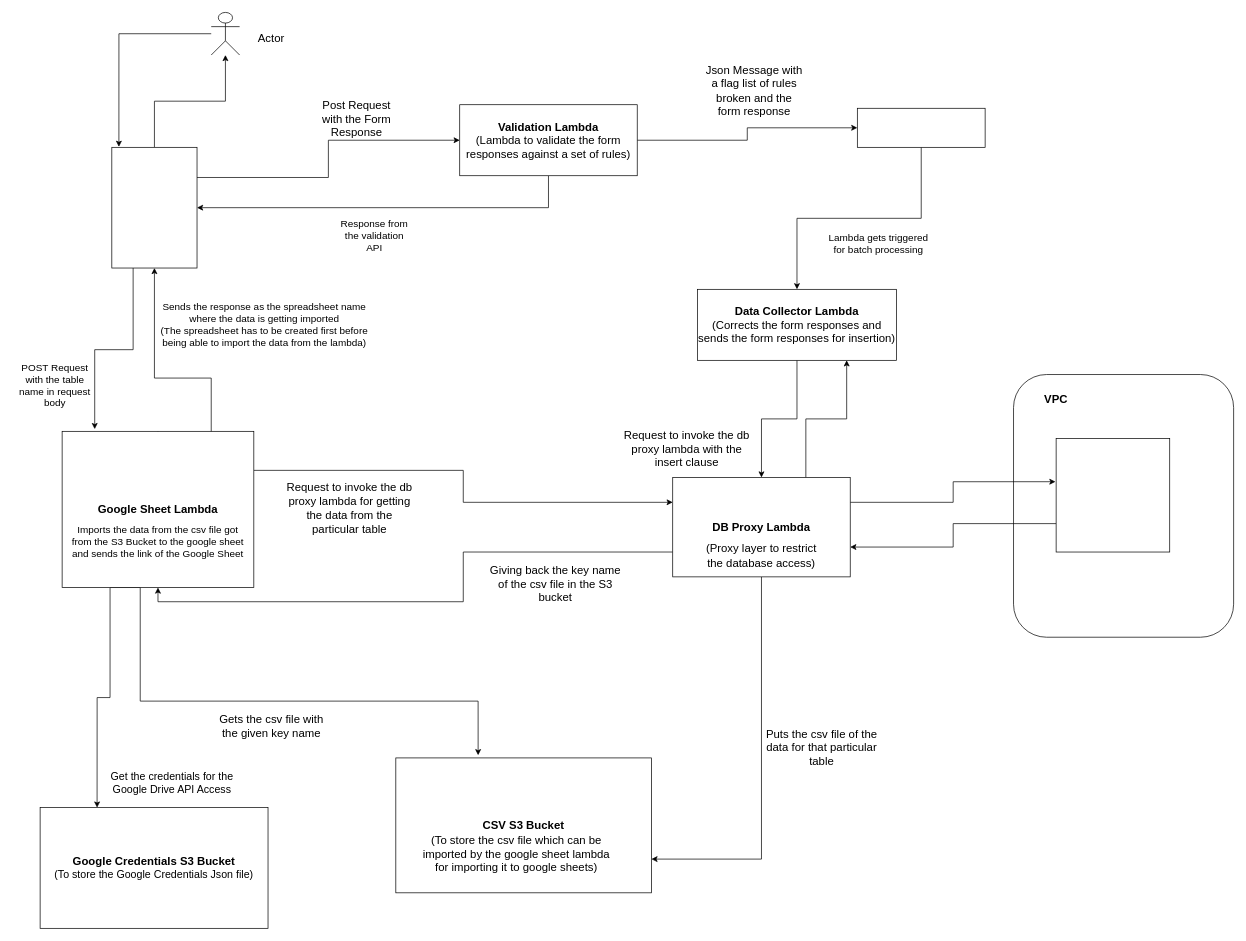
Image size: 1246x941. Some labels were removed from this diagram. The shapes that lost their labels are listed below. From the top down, each one's centre as x and y in pixels, then its label:
(921,127): SQS
(154,207): API Gateway
(1112,495): MySQL RDS
